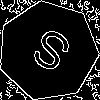S: (23, 26, 75, 83)
